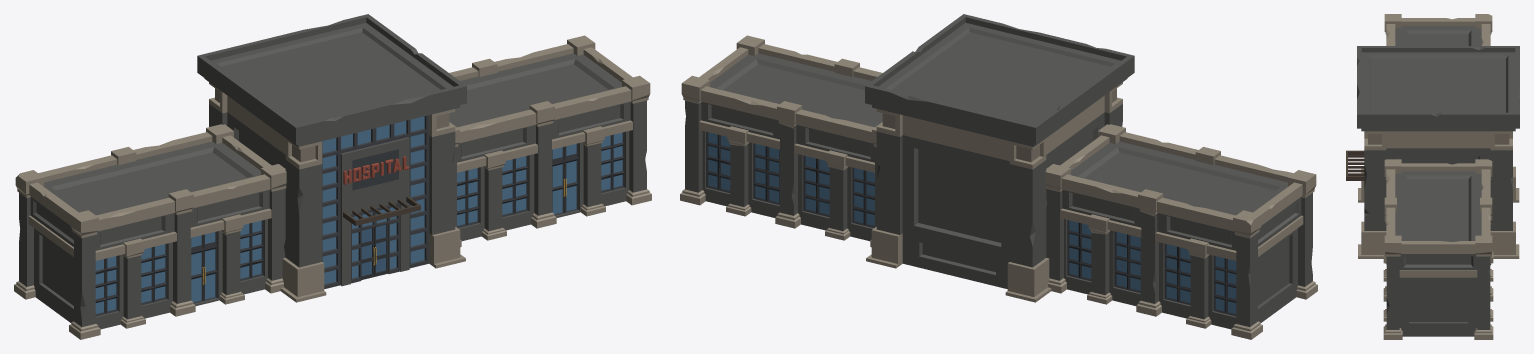
Rendered from SM_Hospital.glb.
The picture shows the model from 3 angles, left to right: view 1: azimuth 30°, elevation 25°; view 2: azimuth 150°, elevation 25°; view 3: azimuth 270°, elevation 25°; orthographic projection. The views are drawn at different scales.
Visible parts, largest first — view 1: SM_Bld_Station_02; view 2: SM_Bld_Station_02; view 3: SM_Bld_Station_02.
Part boxes in pixels (<box>): SM_Bld_Station_02: <box>14,14,651,339</box>; SM_Bld_Station_02: <box>680,14,1317,339</box>; SM_Bld_Station_02: <box>1346,14,1519,339</box>.
Size of the model in its own units: 29.3 by 8.58 by 9.37.
Materials: 1 (1 with a texture image).
